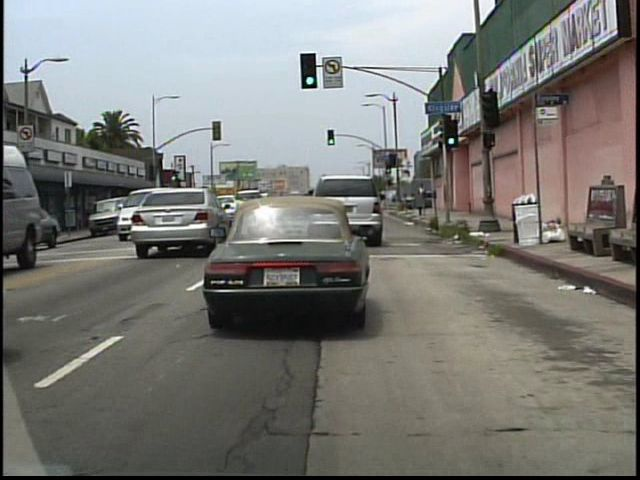person: (416, 182, 429, 210)
